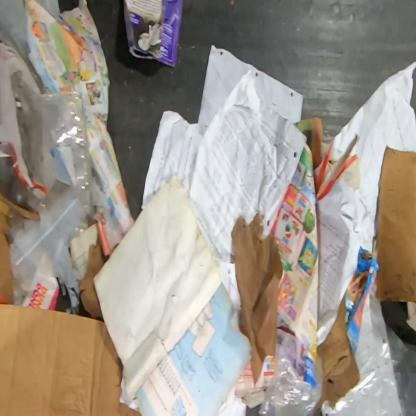cardboard: (0, 304, 144, 415), (375, 146, 415, 305), (312, 292, 360, 415), (0, 191, 39, 305), (345, 246, 379, 355), (21, 278, 60, 310)
soft_plastic: (6, 69, 95, 296), (319, 300, 415, 415), (258, 348, 324, 416)
